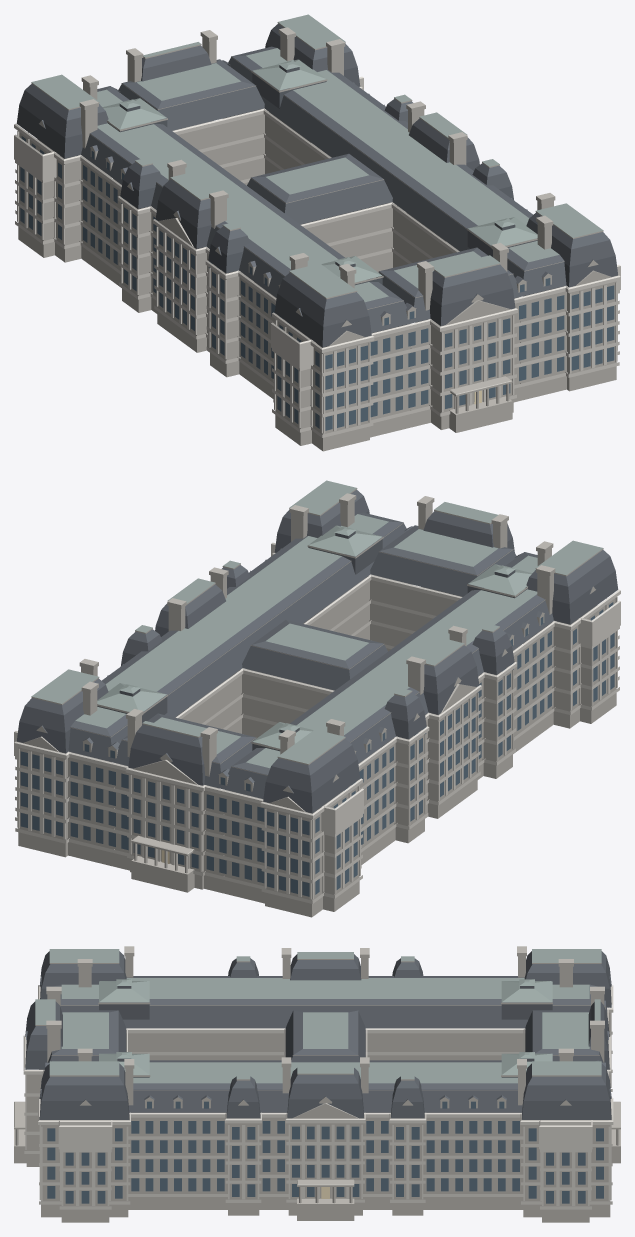
File: detail.glb
The picture shows the model from 3 angles, top to bottom: view 1: azimuth 30°, elevation 25°; view 2: azimuth 150°, elevation 25°; view 3: azimuth 270°, elevation 25°; orthographic projection. The views are drawn at different scales.
Parts seen in each view (by area): view 1: eisenhower-executive-office-building; view 2: eisenhower-executive-office-building; view 3: eisenhower-executive-office-building.
Boxes of the visible parts, <box> form: eisenhower-executive-office-building: <box>14,14,620,451</box>; eisenhower-executive-office-building: <box>14,480,620,917</box>; eisenhower-executive-office-building: <box>14,946,620,1222</box>.
Size of the model in its own units: 88.7 by 40.8 by 155.
